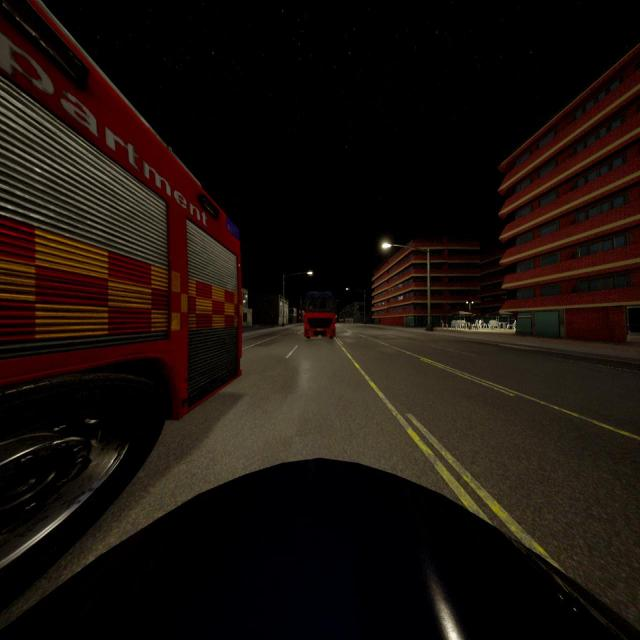Vehicle: (0, 1, 240, 604), (0, 456, 640, 640), (304, 293, 336, 338)
